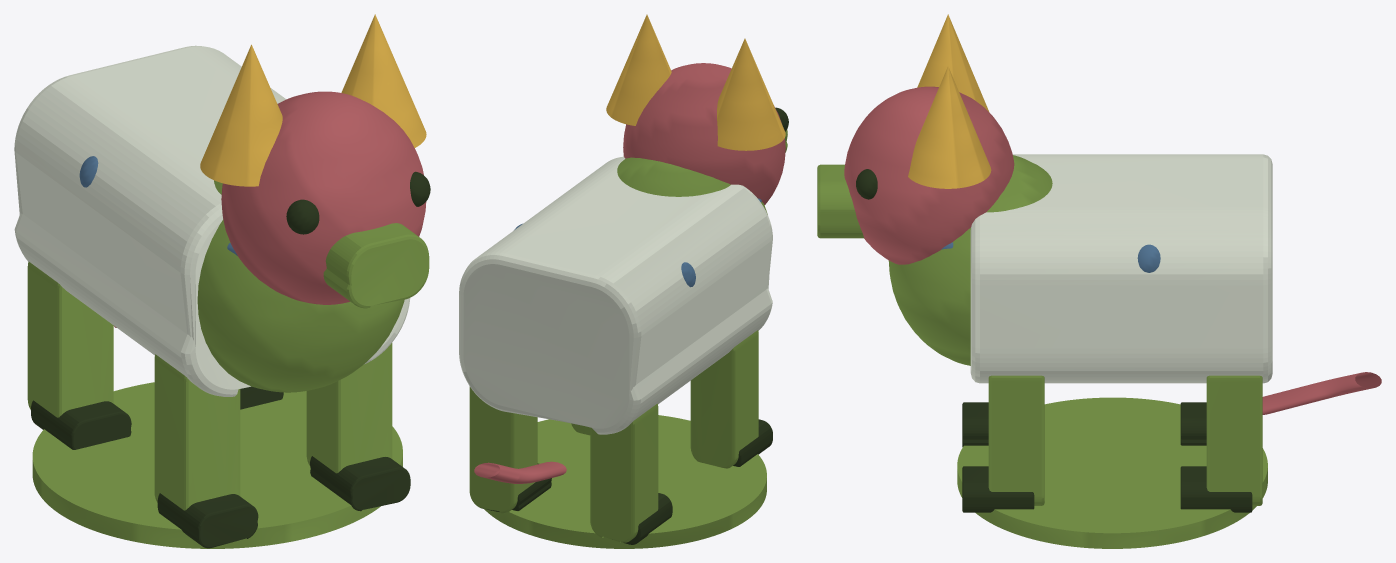
File: 1283_爬行动物图鉴_科莫多巨蜥.glb
3 renders of one model, left to right at view 1: azimuth 30°, elevation 25°; view 2: azimuth 150°, elevation 25°; view 3: azimuth 270°, elevation 25°, orthographic. The views are drawn at different scales.
Visible parts, largest first — view 1: card_1283; view 2: card_1283; view 3: card_1283.
Boxes of the visible parts, x1,y1,x2,y2 form: card_1283: (14,14,430,548); card_1283: (459,14,788,548); card_1283: (817,14,1381,548).
Size of the model in its own units: 0.6597 by 1 by 1.16.
